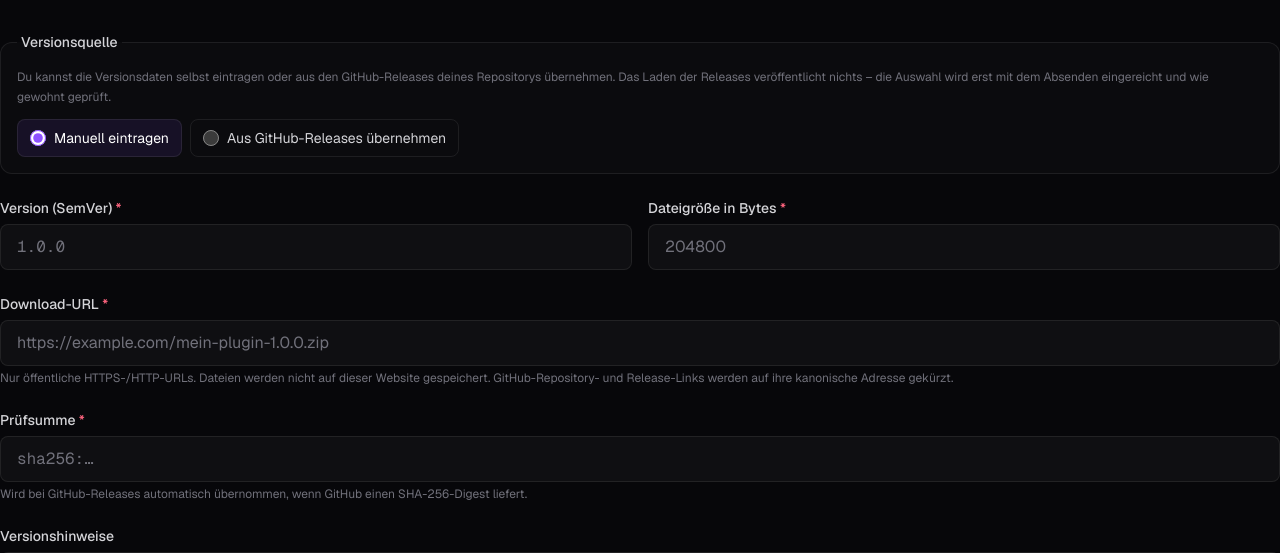
it: VersionForm › loads releases and copies the selected release into the form
Click the radio button labelled "Aus GitHub-Releases übernehmen" at coordinates (211, 138), box [203, 130, 219, 146]
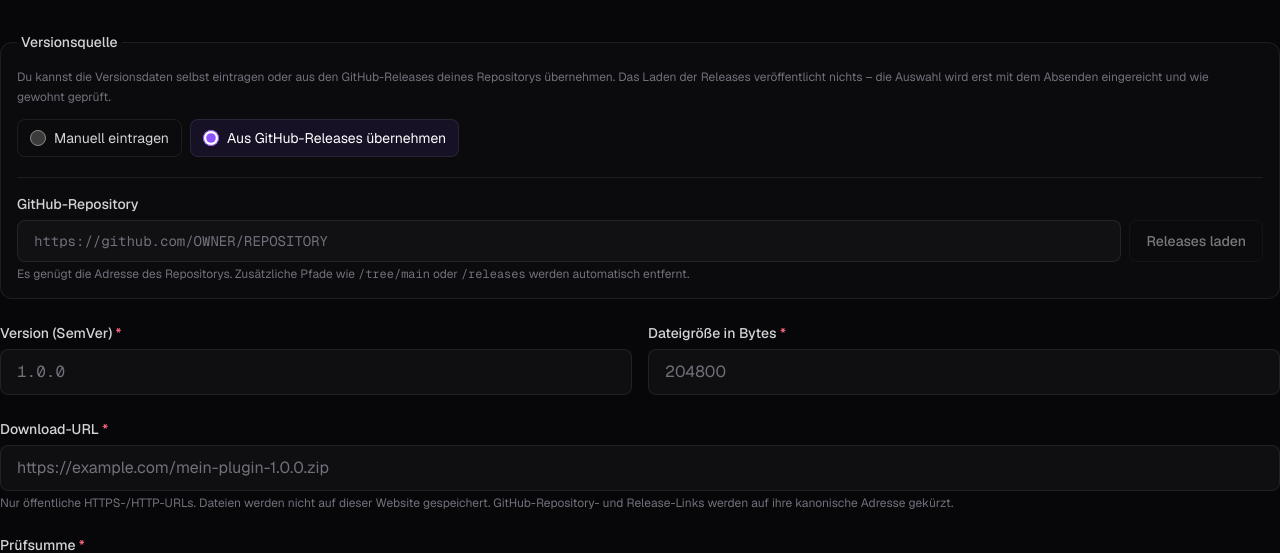
Type "github.com/owner/repo" into the field labelled "GitHub-Repository" at coordinates (569, 241), box [17, 220, 1121, 262]
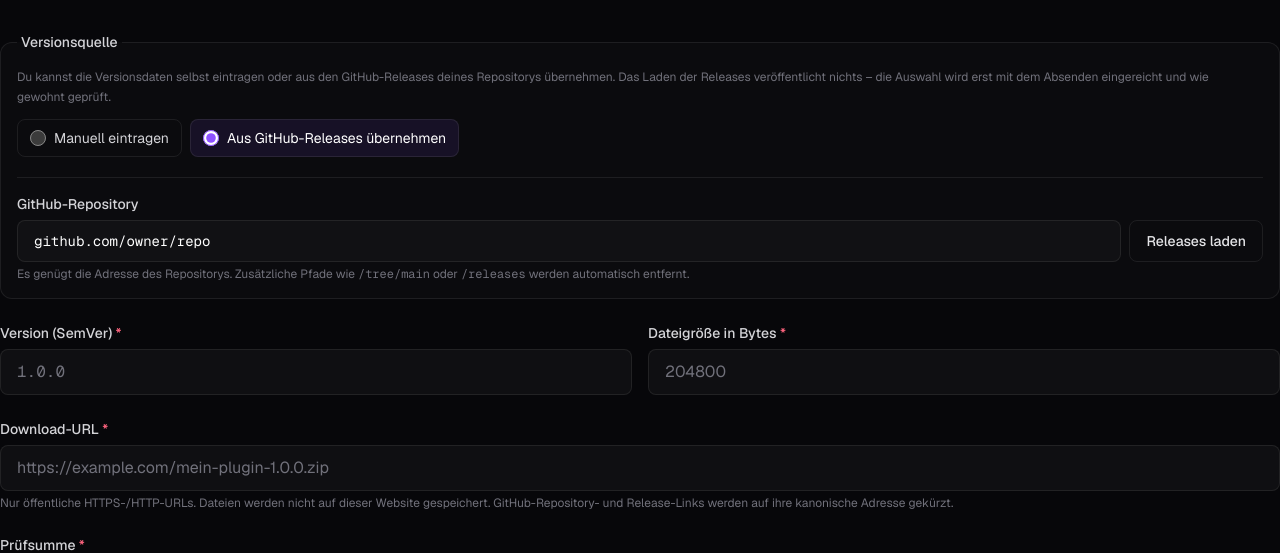
Click the button "Releases laden" at coordinates (1196, 241), box [1129, 220, 1263, 262]
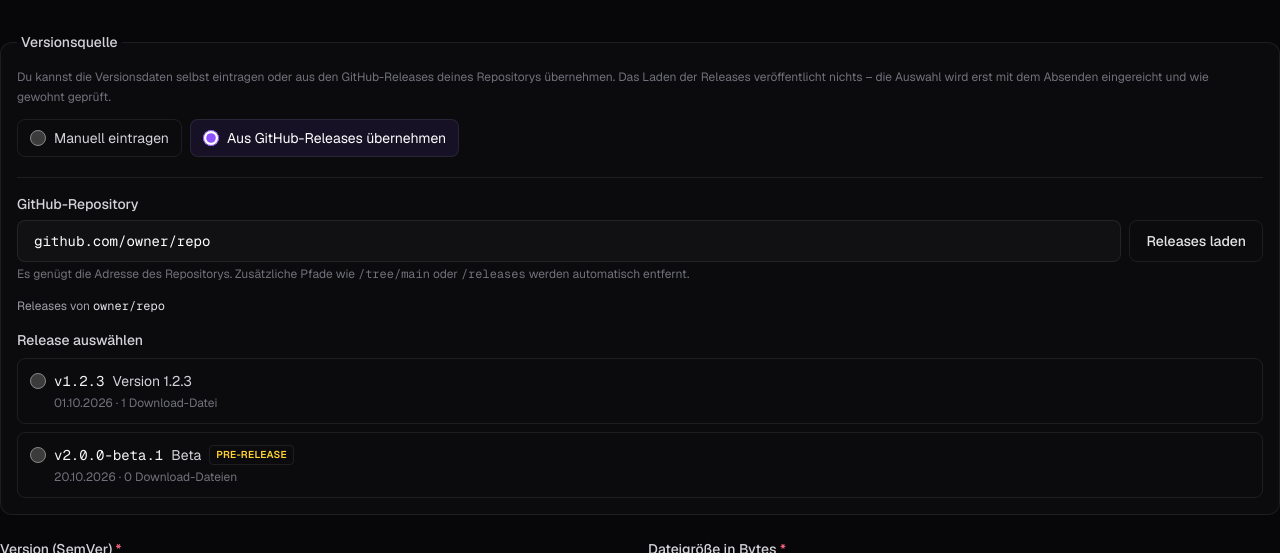
Result: the text "Version 1.2.3" is shown at [112, 371, 192, 391]
Result: the text "Pre-Release" is shown at [209, 445, 294, 465]
Click the radio button labelled "v1.2.3 Version 1.2.3 01.10.2026 · 1 Download-Datei" at coordinates (38, 381), box [30, 373, 46, 389]
(page scrolled)
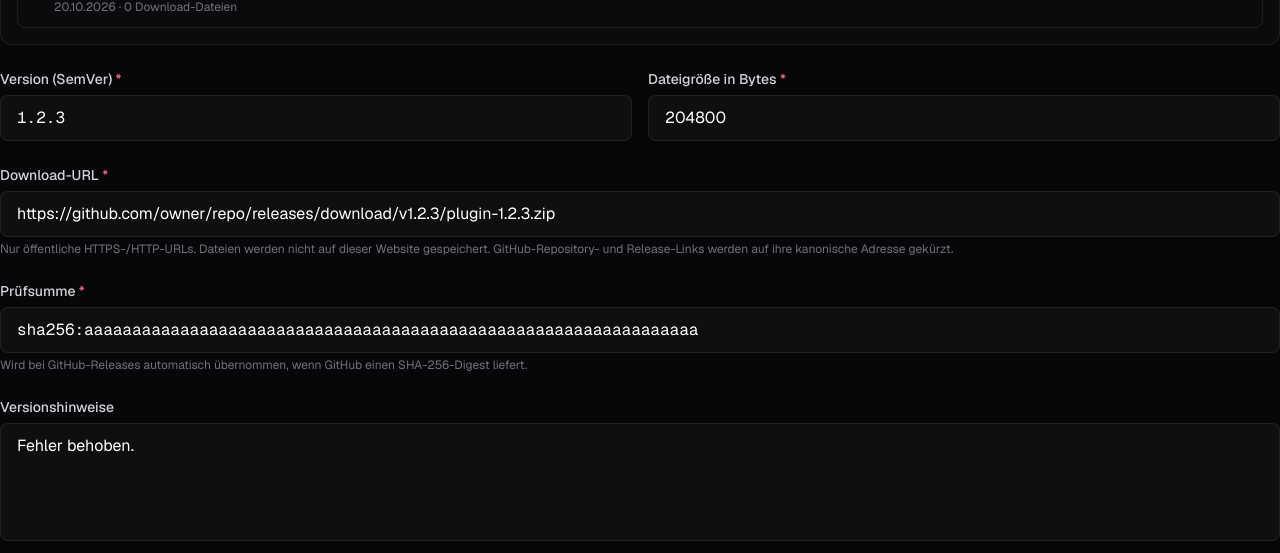
Result: the field labelled "Version (SemVer) *" holds "1.2.3" at [0, 95, 632, 141]
Result: the number field labelled "Dateigröße in Bytes *" holds "204800" at [648, 95, 1279, 141]
Result: the field labelled "Download-URL *" holds "https://github.com/owner/repo/releases/download/v1.2.3/plugin-1.2.3.zip" at [0, 191, 1279, 237]
